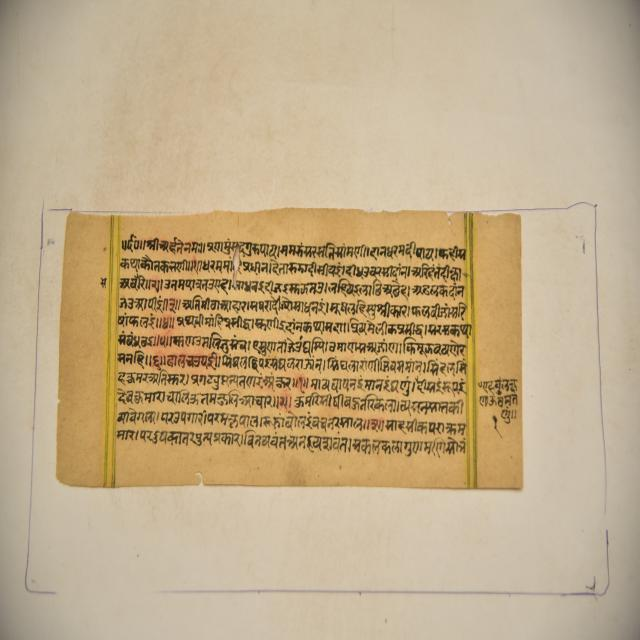text_paragraph: (57, 211, 523, 491)
